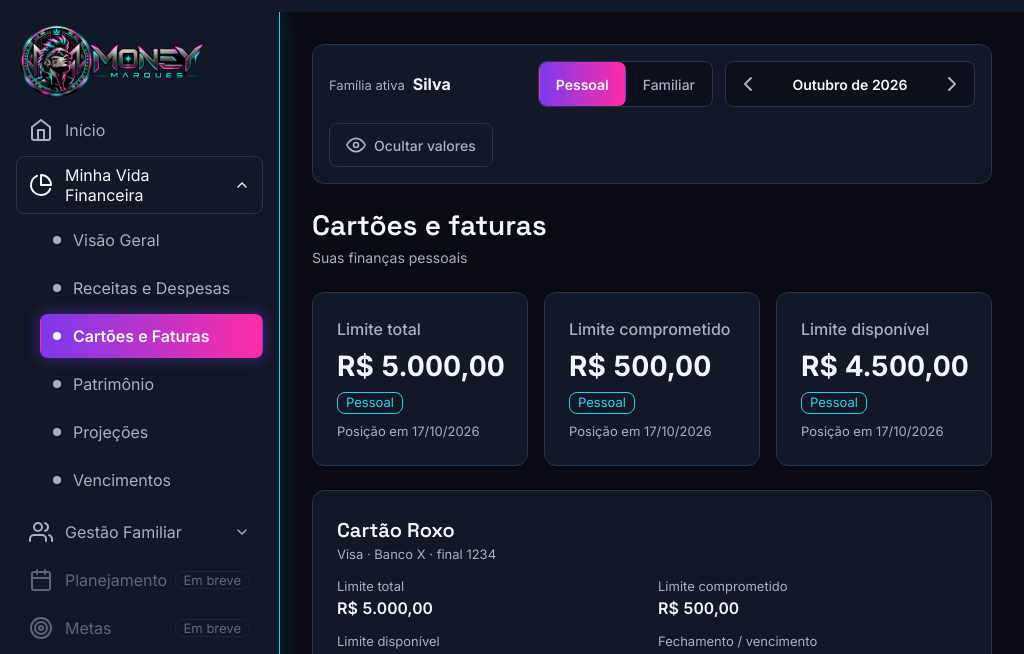
it: telas do painel (DASH-002 a DASH-006) › DASH-003: cartoes › modo privacidade esconde os valores do cartao
What coordinates should you click on to do the following:
click the button "Ocultar valores"
I would click on:
 (411, 145)
Its box is [329, 123, 493, 167].
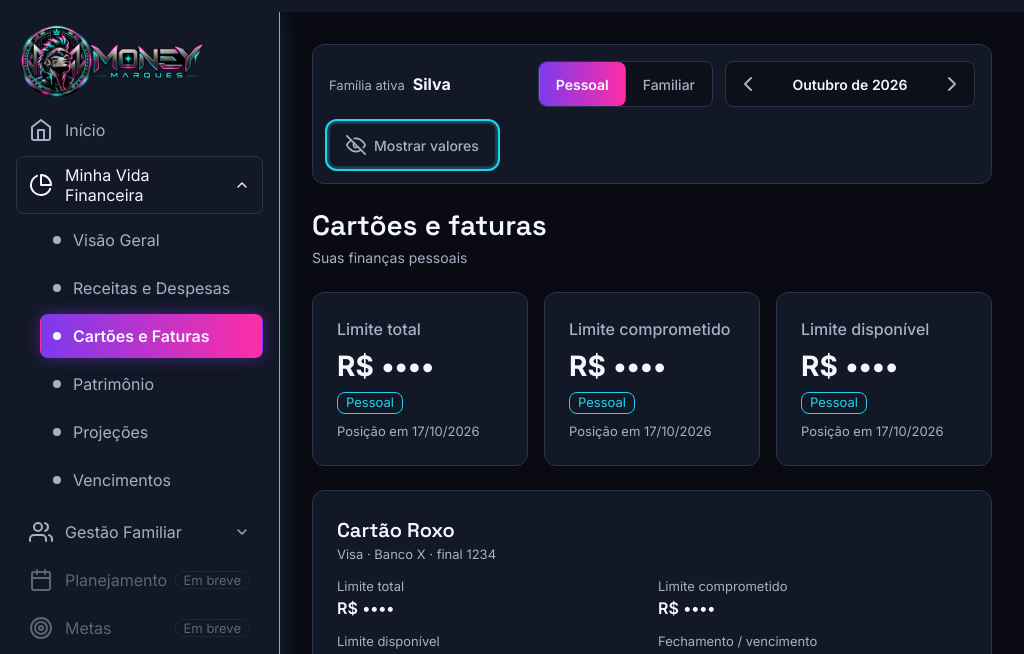
Result: the text "5.000,00" is gone
